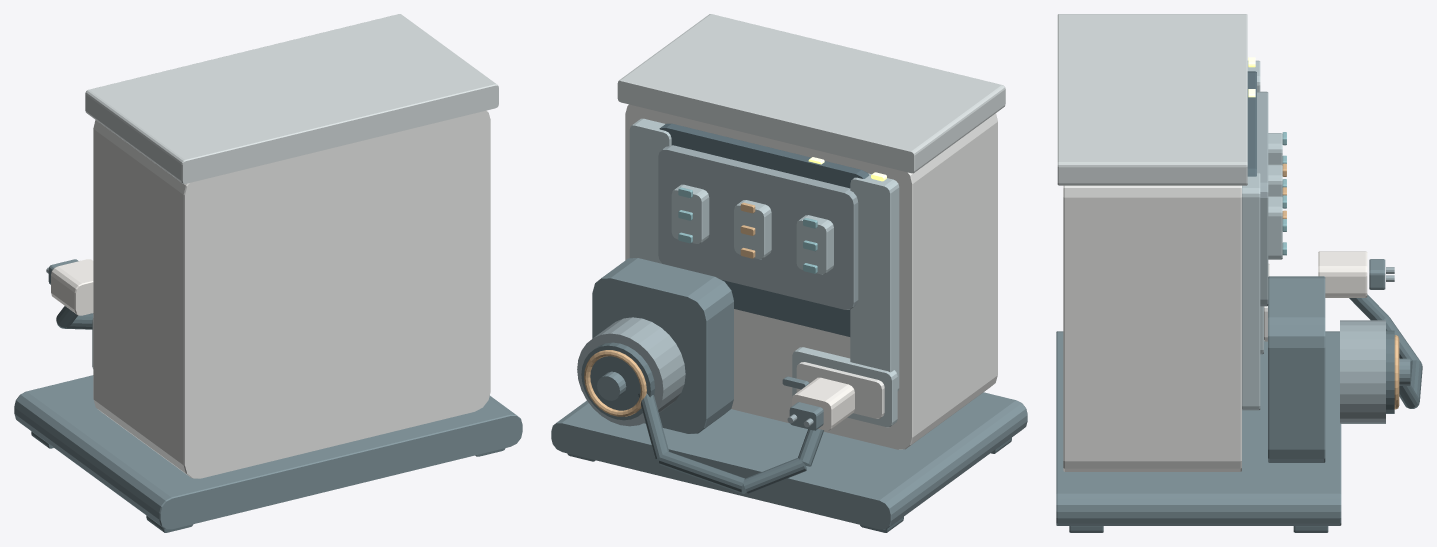
File: rover_charger.glb
The picture shows the model from 3 angles, left to right: view 1: azimuth 30°, elevation 25°; view 2: azimuth 150°, elevation 25°; view 3: azimuth 270°, elevation 25°; orthographic projection. The views are drawn at different scales.
Parts seen in each view (by area): view 1: Fixed__shell, Fixed__silver, Fixed__graphite, charging_plug__ivory, Fixed__rubber; view 2: Fixed__graphite, Fixed__shell, Fixed__silver, Fixed__steel, Fixed__aluminium, Fixed__recess, Fixed__rubber, service_hatch__shell, charging_plug__ivory, Fixed__orange, Fixed__teal, charging_plug__graphite; view 3: Fixed__shell, Fixed__silver, Fixed__graphite, Fixed__steel, Fixed__aluminium, Fixed__rubber, charging_plug__ivory, Fixed__recess, Fixed__orange, charging_plug__graphite.
Boxes of the visible parts, bbox=[...] form: Fixed__shell: bbox=[93, 110, 490, 478]; Fixed__silver: bbox=[85, 14, 498, 183]; Fixed__graphite: bbox=[14, 375, 522, 529]; charging_plug__ivory: bbox=[51, 259, 93, 315]; Fixed__rubber: bbox=[31, 306, 505, 532]; Fixed__graphite: bbox=[551, 258, 1027, 529]; Fixed__shell: bbox=[625, 104, 997, 449]; Fixed__silver: bbox=[617, 14, 1005, 173]; Fixed__steel: bbox=[577, 145, 858, 426]; Fixed__aluminium: bbox=[629, 118, 899, 427]; Fixed__recess: bbox=[659, 123, 869, 336]; Fixed__rubber: bbox=[567, 342, 1011, 532]; service_hatch__shell: bbox=[796, 362, 884, 418]; charging_plug__ivory: bbox=[792, 377, 854, 430]; Fixed__orange: bbox=[584, 202, 755, 416]; Fixed__teal: bbox=[678, 187, 817, 273]; charging_plug__graphite: bbox=[789, 402, 823, 430]; Fixed__shell: bbox=[1063, 185, 1241, 471]; Fixed__silver: bbox=[1057, 14, 1247, 185]; Fixed__graphite: bbox=[1056, 276, 1410, 525]; Fixed__steel: bbox=[1257, 91, 1385, 423]; Fixed__aluminium: bbox=[1242, 60, 1282, 410]; Fixed__rubber: bbox=[1069, 294, 1422, 532]; charging_plug__ivory: bbox=[1318, 251, 1367, 297]; Fixed__recess: bbox=[1247, 71, 1256, 176]; Fixed__orange: bbox=[1282, 163, 1399, 409]; charging_plug__graphite: bbox=[1369, 259, 1385, 289].
Size of the model in its own units: 1.42 by 1.4 by 1.27.
